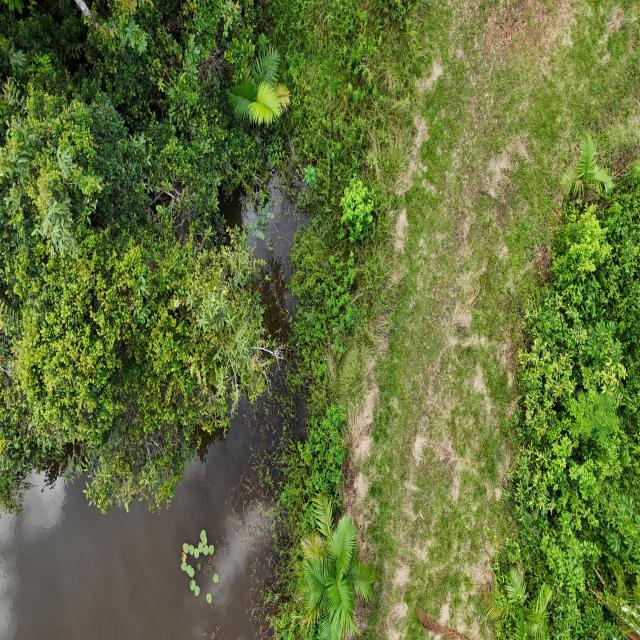vegetation: (485, 135, 639, 639)
